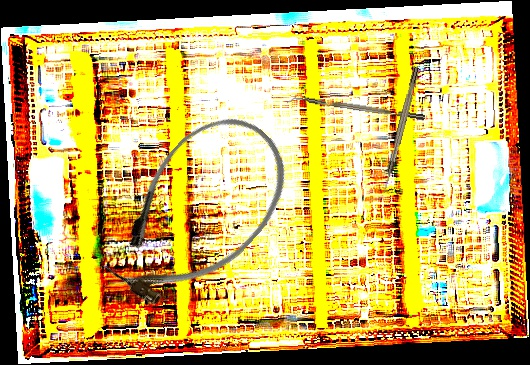Cannula: (83, 94, 312, 330)
Chopper: (286, 93, 426, 127)
Hook Surgical: (380, 66, 421, 194)
